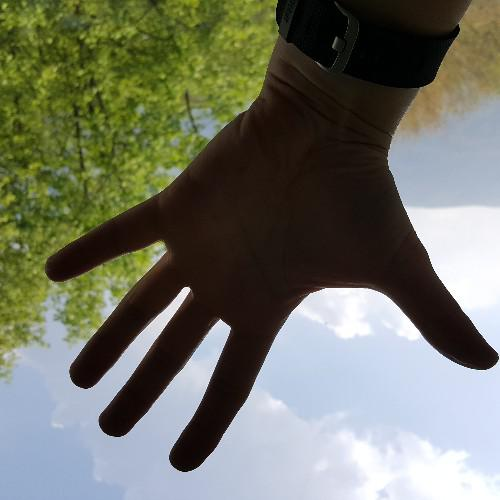paper: (52, 22, 499, 472)
